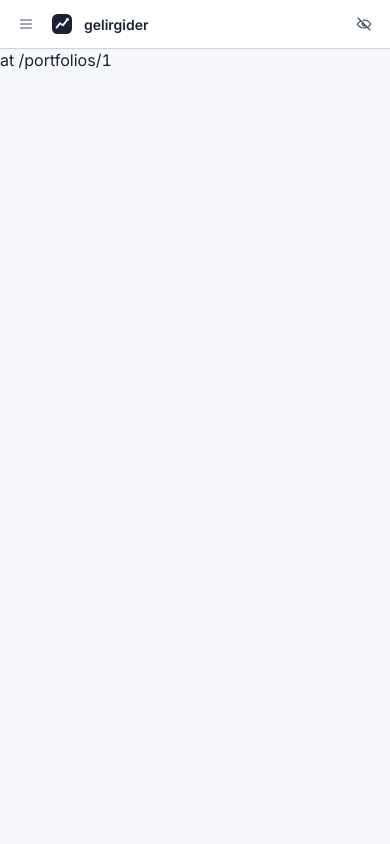
Test: AppShell › opens the drawer from the menu button
Click the button named "Menüyü aç": coordinates (26, 24) [8,6,44,42]
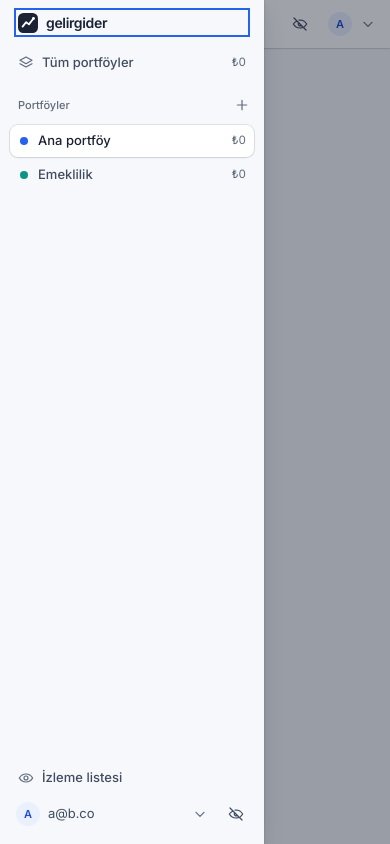
Now the navigation bar named "Ana menü" is shown
Now the button named "Menüyü aç" is expanded, box [8,6,44,42]
